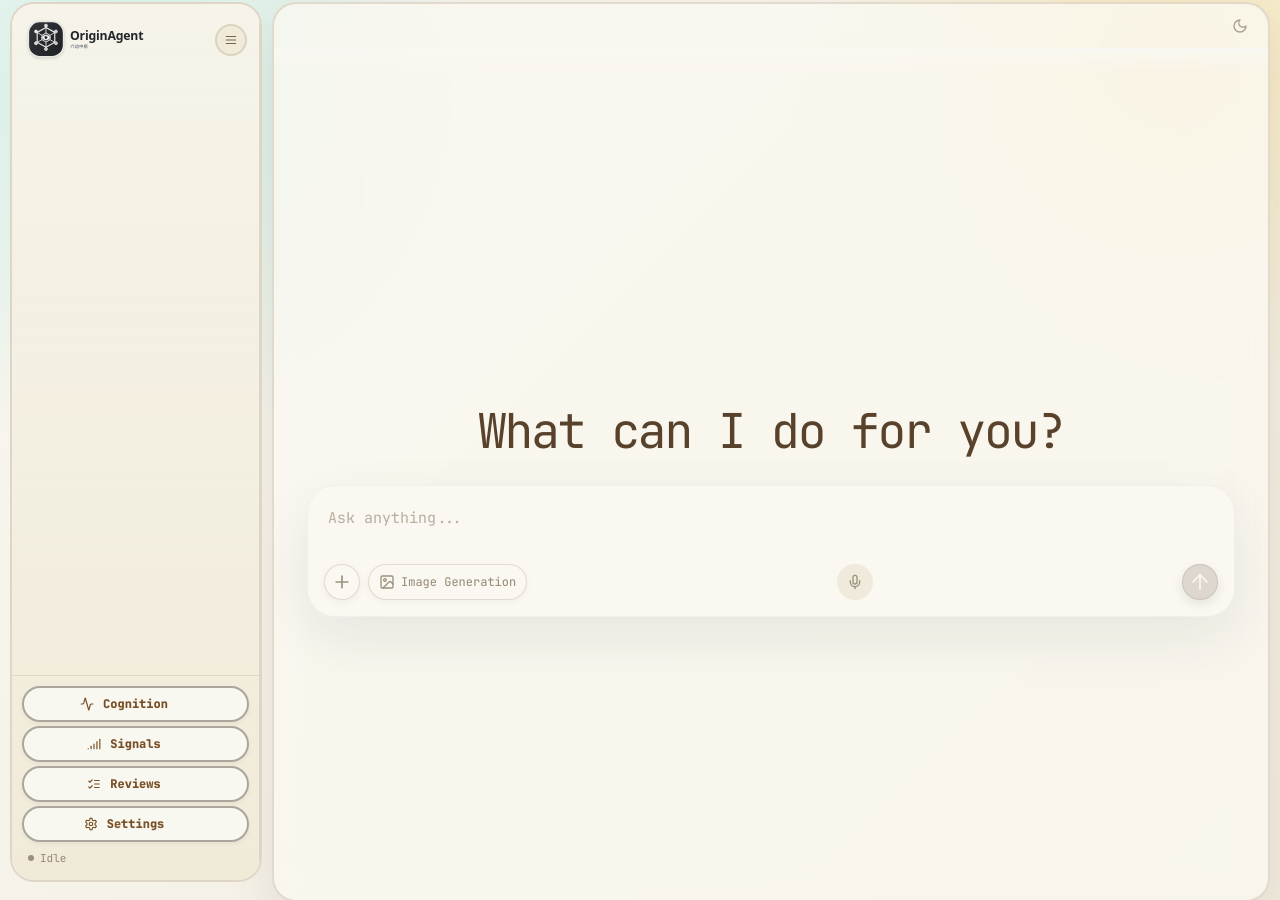
Test case: App layout › fetches provider models in settings and lets the user choose one
The image size is (1280, 900).
Step 1. Click the button "Settings" → (136, 824), box [22,806,249,842]
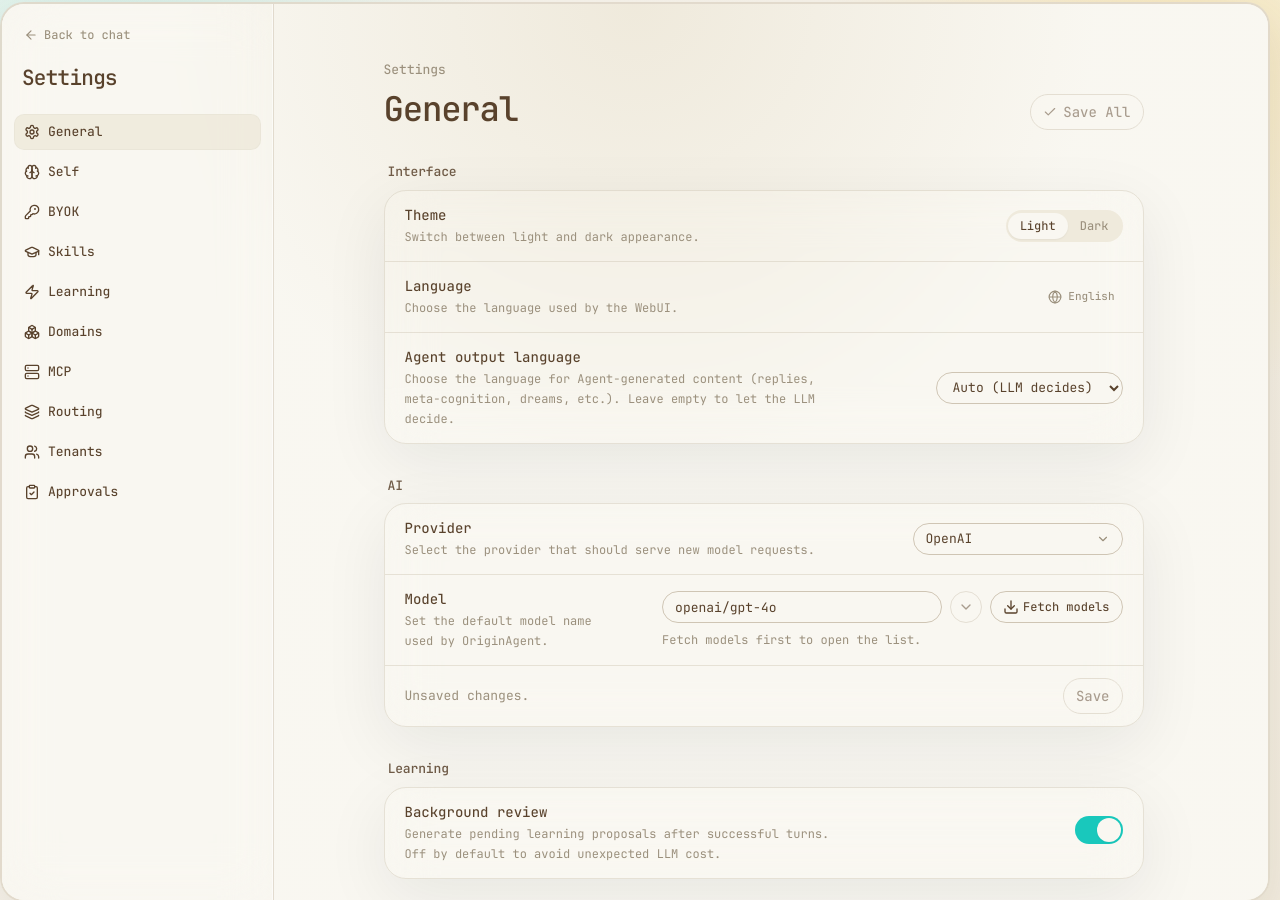
Expected: the heading "General" is shown, [384,88,518,130]
Step 2. Click the button "Fetch models" → (1056, 607), box [990,591,1122,623]
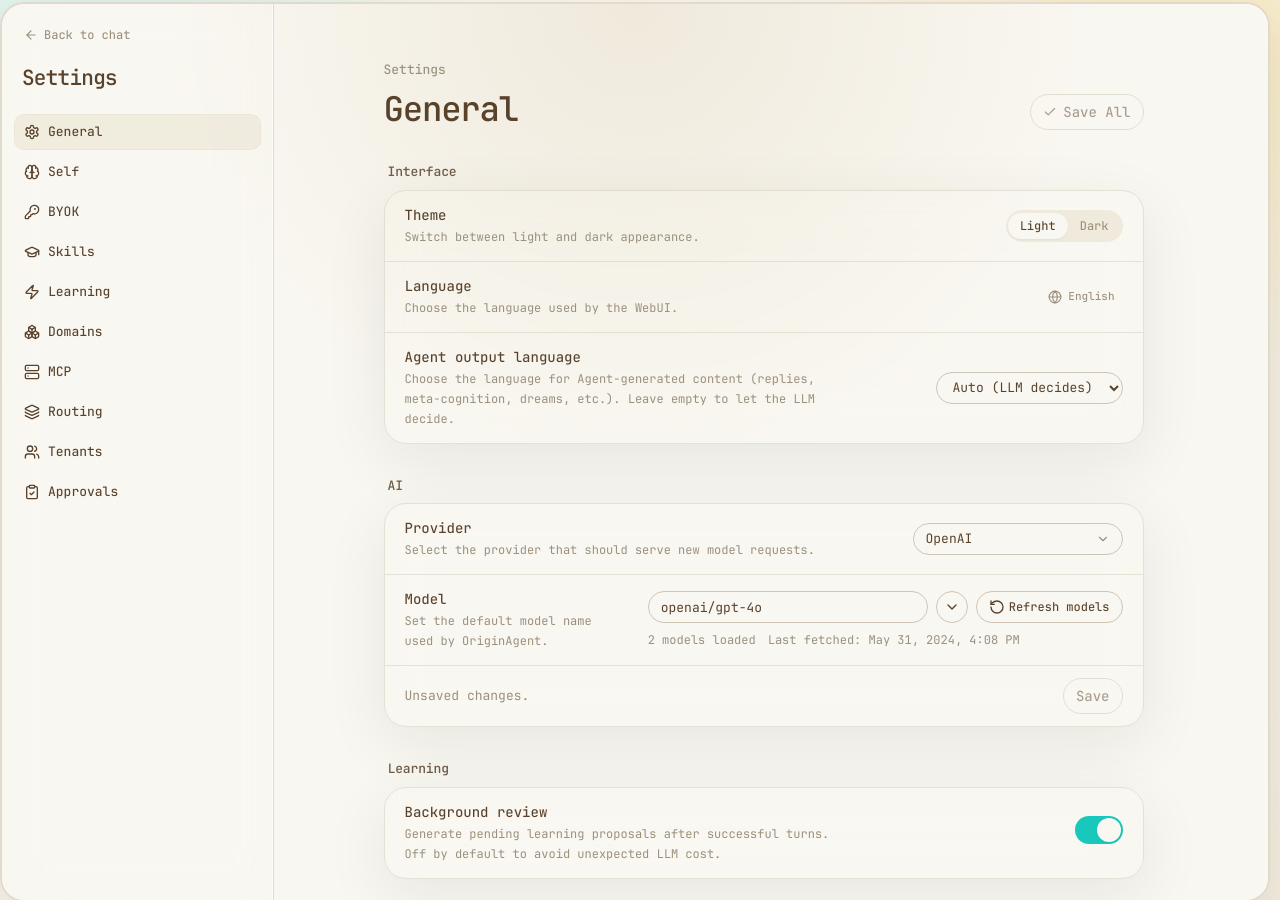
Step 3. Click the button named "Open fetched models" → (952, 607), box [936,591,968,623]
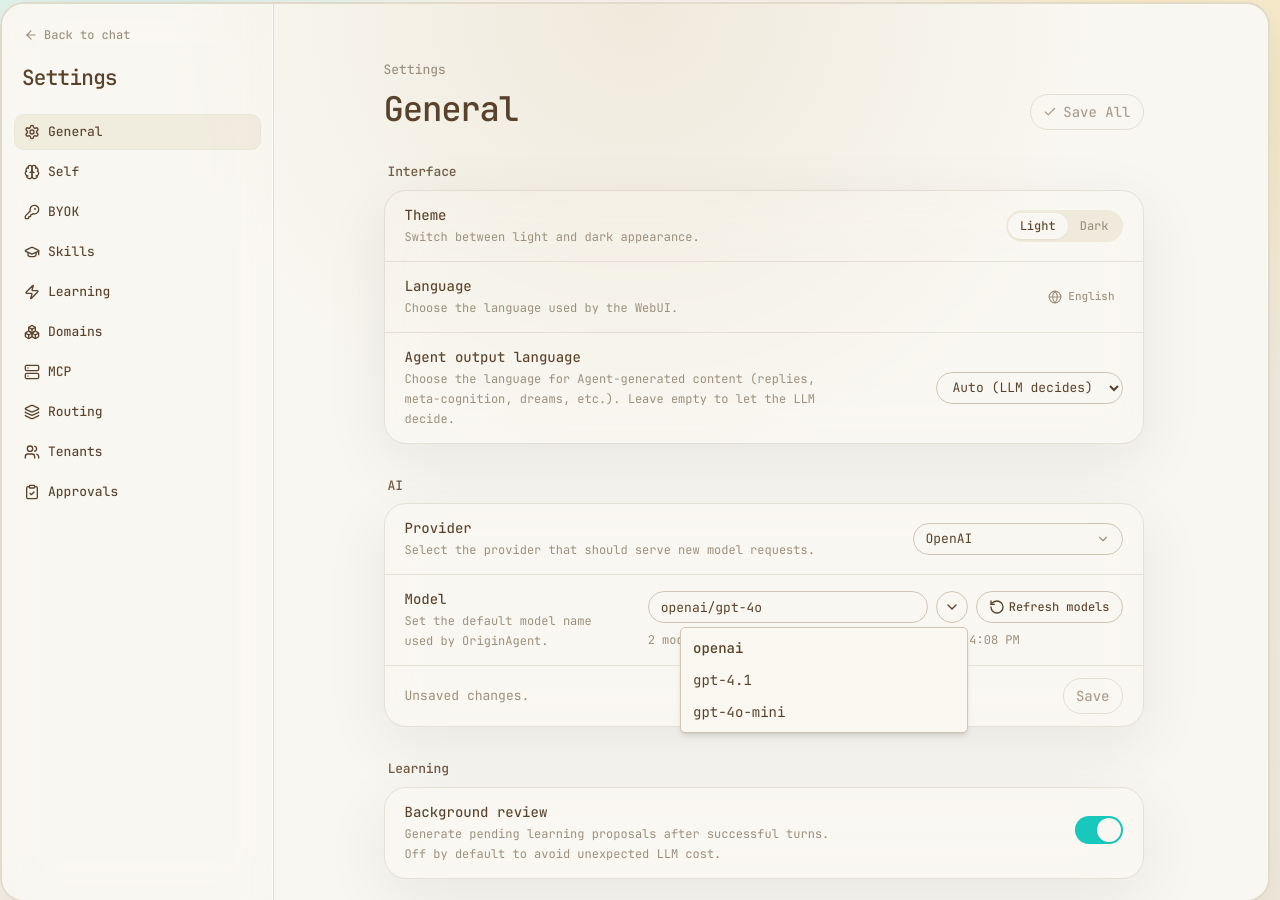
Step 4. Click the menu item "gpt-4o-mini" → (739, 712), box [693,703,785,721]
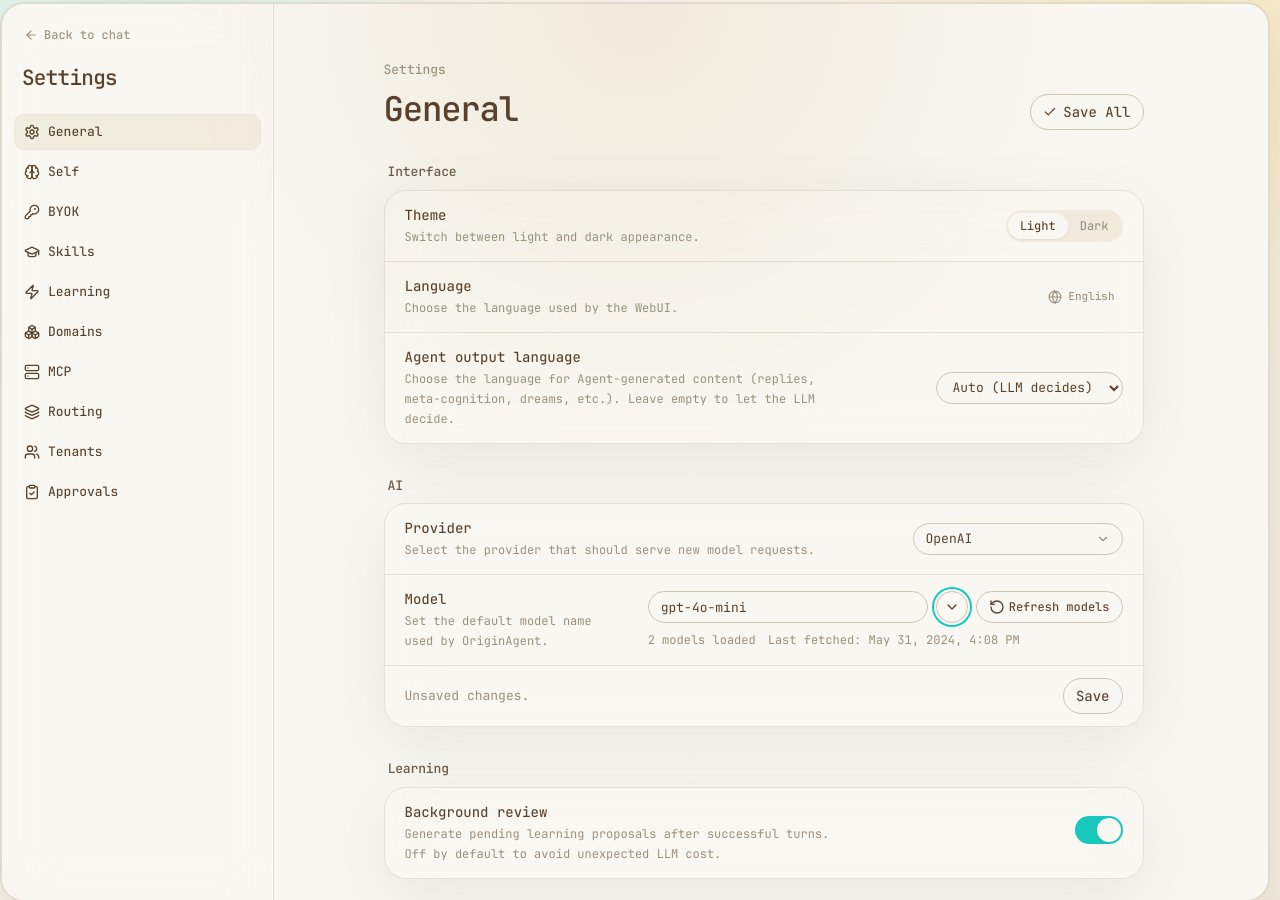
Expected: the field showing "gpt-4o-mini" is shown, [648,591,928,623]
